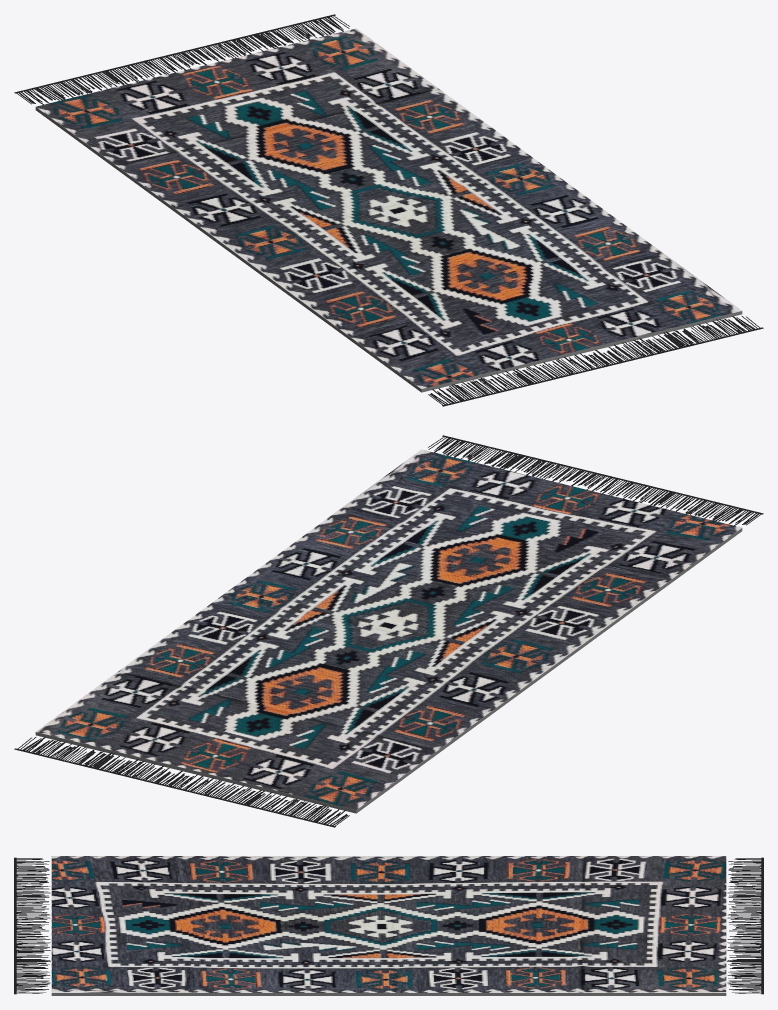
The picture shows the model from 3 angles, top to bottom: view 1: azimuth 30°, elevation 25°; view 2: azimuth 150°, elevation 25°; view 3: azimuth 270°, elevation 25°; orthographic projection. The views are drawn at different scales.
Parts seen in each view (by area): view 1: rug, fringeB, fringeA, side; view 2: rug, fringeA, fringeB, side; view 3: rug, fringeA, fringeB, side.
Boxes of the visible parts, box(x1,y1,x2,y2) form: rug: box(36, 28, 741, 388); fringeB: box(428, 316, 763, 406); fringeA: box(14, 14, 349, 104); side: box(35, 107, 742, 392); rug: box(36, 449, 741, 809); fringeA: box(14, 737, 349, 827); fringeB: box(428, 435, 763, 525); side: box(35, 528, 742, 813); rug: box(51, 856, 726, 992); fringeA: box(727, 857, 763, 994); fringeB: box(14, 857, 50, 994); side: box(51, 993, 726, 995).
Size of what is drawn, in the model's own units: 0.6 by 0.00614 by 1.39.
Materials: 2 (2 with a texture image).
